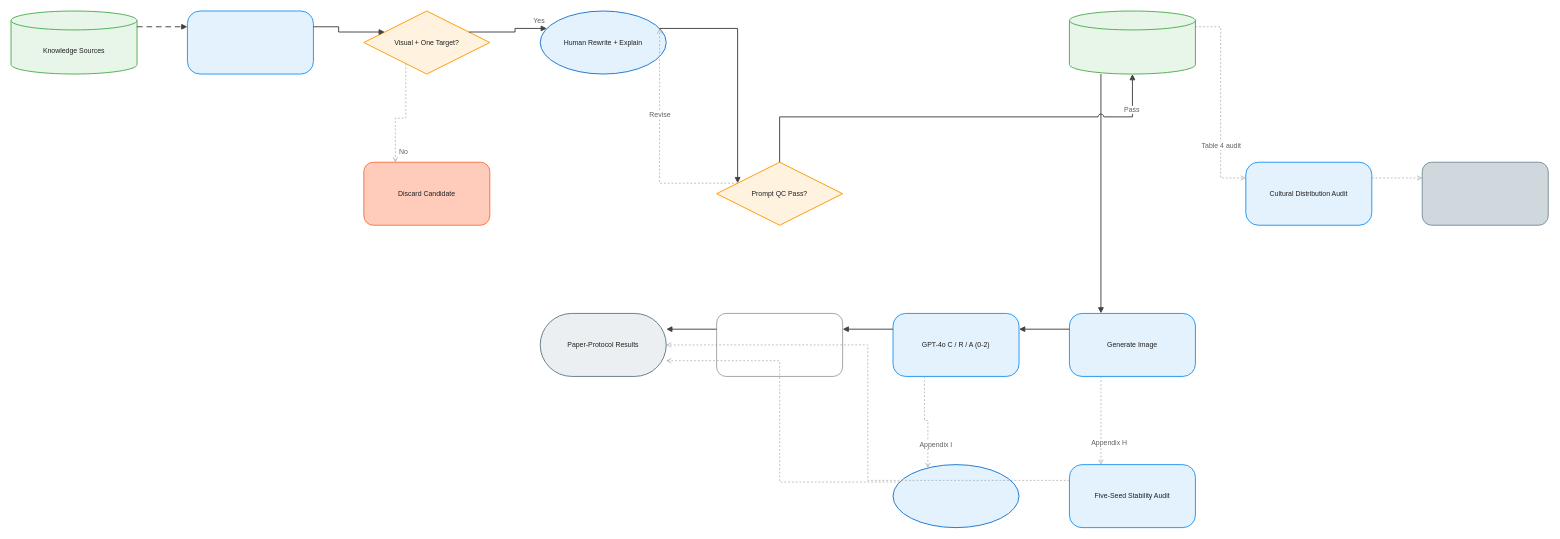
Some shapes in this 1560 by 539 pixel diagram are drawn without their labels. Here are the shapes that lost their labels. From the top down, the centre of each, then its label:
point (250, 42): Prompt Candidates
point (1132, 42): 1,000 Prompts / 25 Subdomains
point (1484, 193): Descriptive Distribution Report · No Gate / Rebalance
point (779, 344): WiScore = (0.7C+0.2R+0.1A)/2
point (955, 496): Five-Annotator Validation
